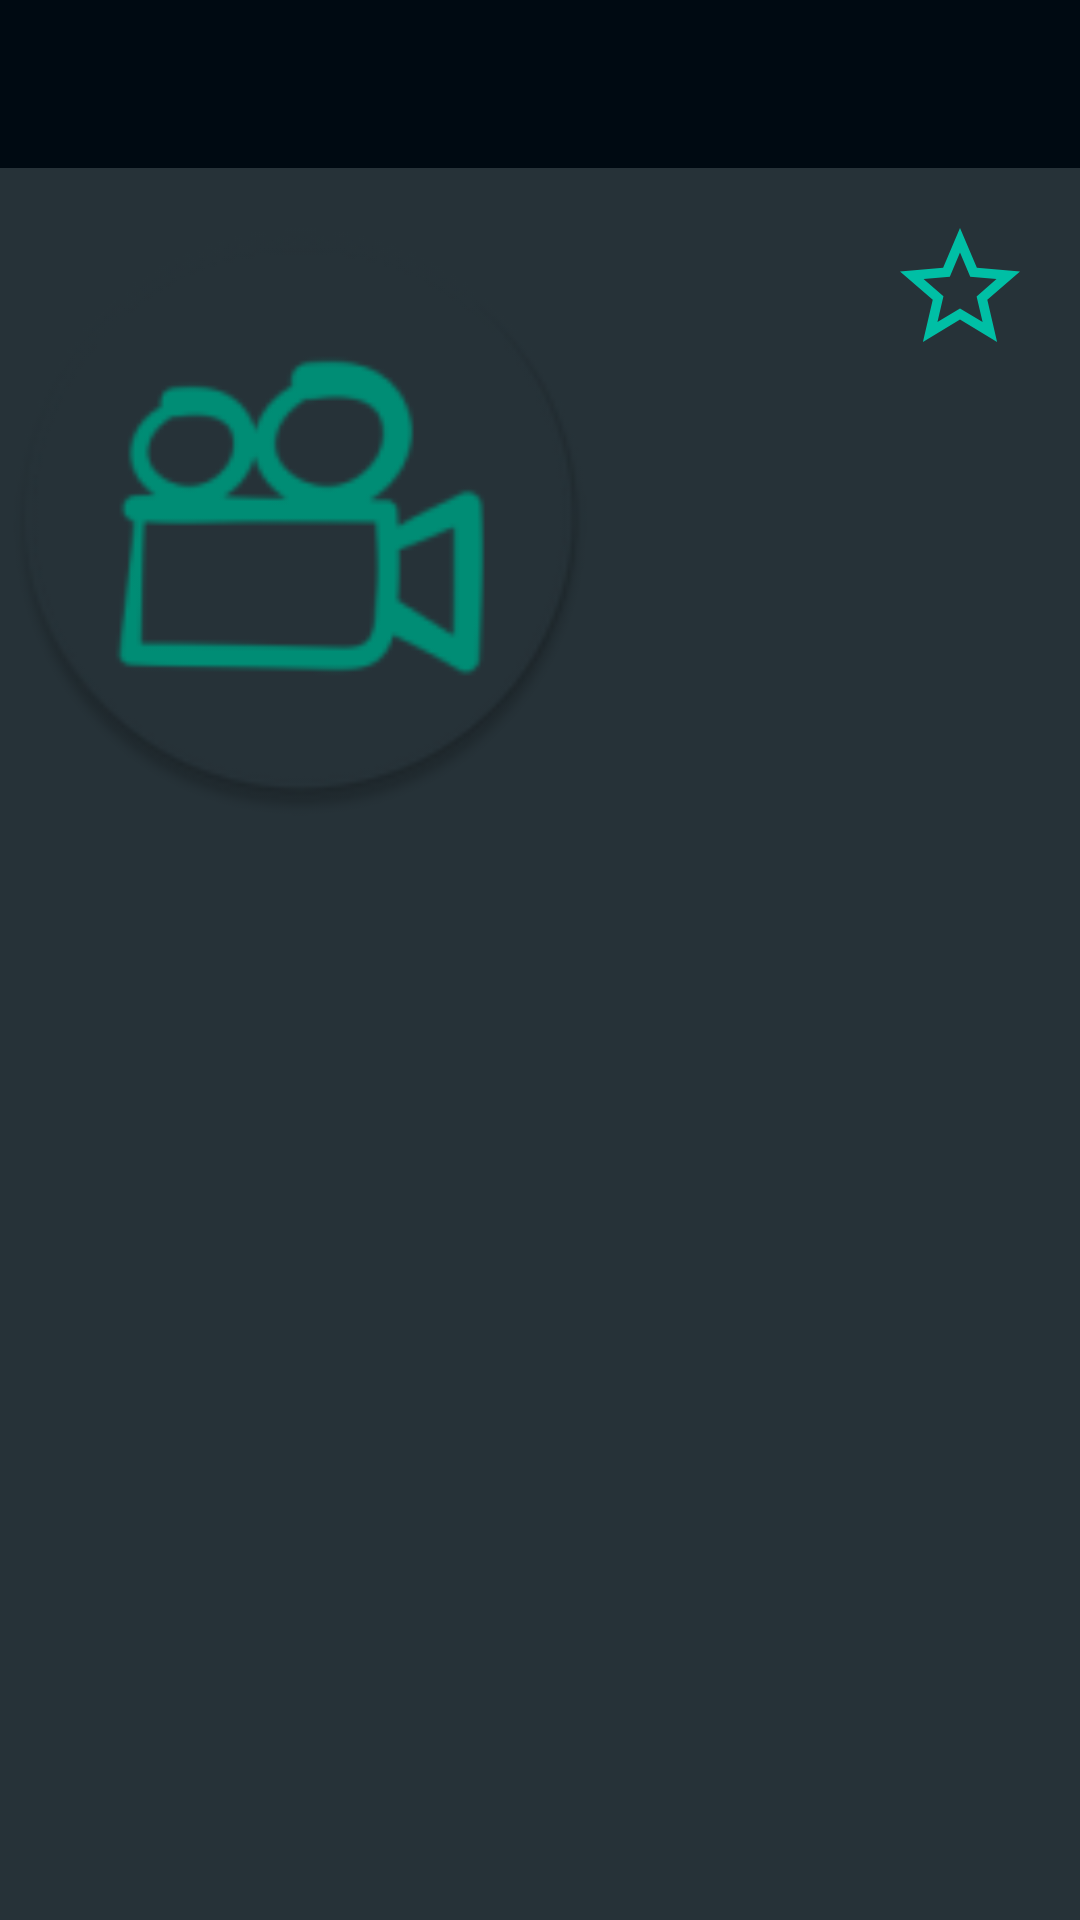

Icons on this 1080×1920 Android screen, each with the point to tap as point (x, y):
Create Favorite Button: point (960, 285)
